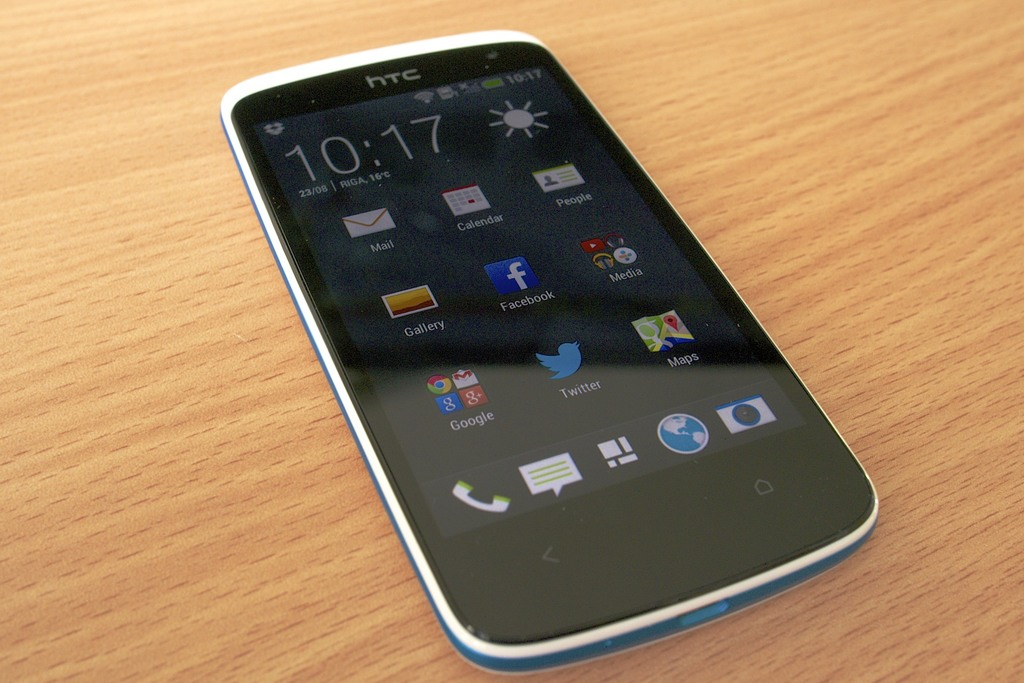mobile phone: (218, 24, 881, 675)
